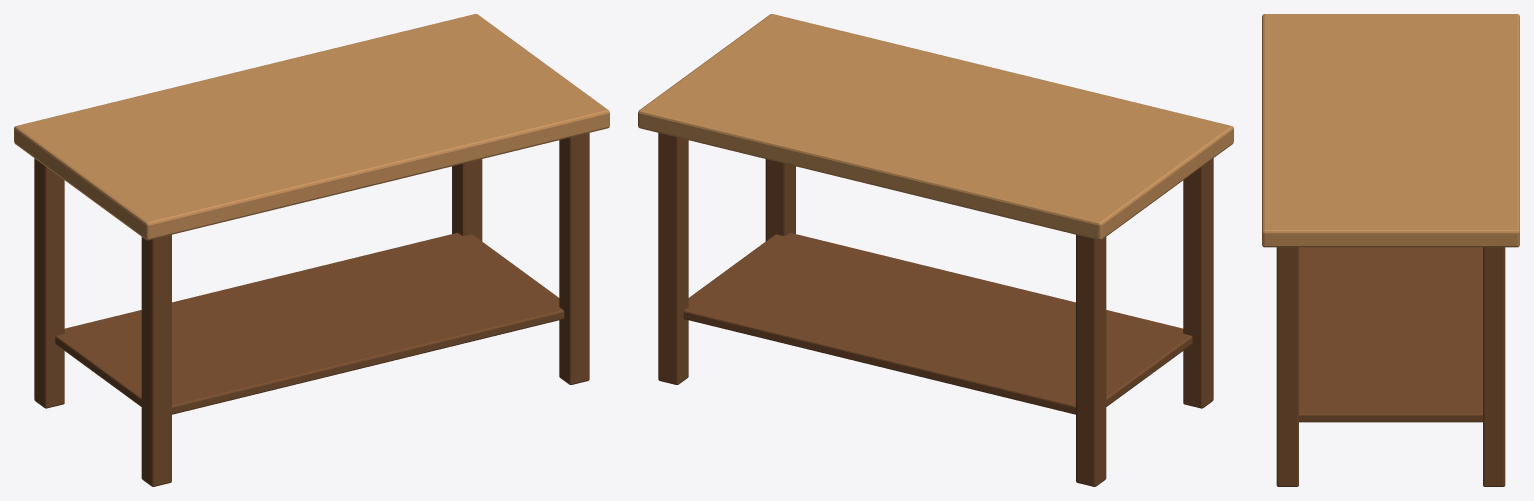
Rendered from Workbench.fbx.
3 renders of one model, left to right at view 1: azimuth 30°, elevation 25°; view 2: azimuth 150°, elevation 25°; view 3: azimuth 270°, elevation 25°, orthographic. The views are drawn at different scales.
Visible parts, largest first — view 1: Workbench_Top, Workbench_Shelf, Workbench_Legs; view 2: Workbench_Top, Workbench_Shelf, Workbench_Legs; view 3: Workbench_Top, Workbench_Shelf, Workbench_Legs.
Boxes of the visible parts, x1=… form: Workbench_Top: x1=14, y1=14, x2=609, y2=240; Workbench_Shelf: x1=55, y1=233, x2=564, y2=414; Workbench_Legs: x1=34, y1=133, x2=589, y2=486; Workbench_Top: x1=638, y1=14, x2=1233, y2=240; Workbench_Shelf: x1=683, y1=233, x2=1192, y2=414; Workbench_Legs: x1=658, y1=133, x2=1213, y2=486; Workbench_Top: x1=1262, y1=14, x2=1519, y2=247; Workbench_Shelf: x1=1299, y1=247, x2=1482, y2=422; Workbench_Legs: x1=1276, y1=247, x2=1505, y2=486.
Bounding box in the file's own units: 1.6 × 0.9 × 0.8.
